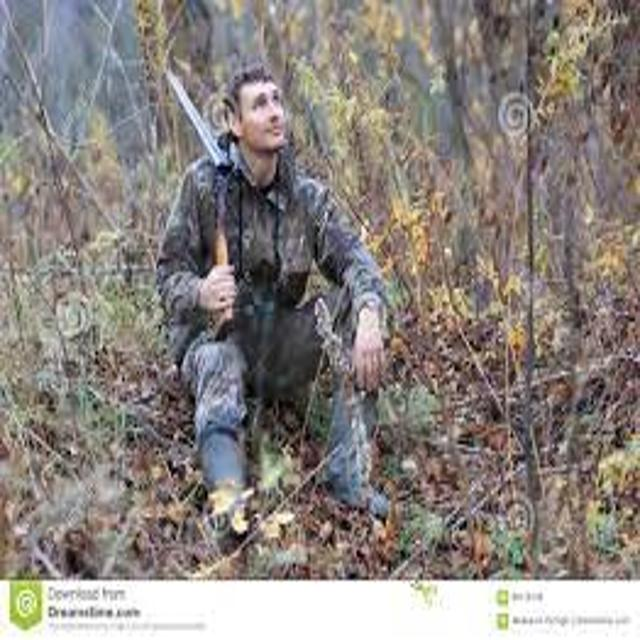gun: (145, 53, 254, 354)
poacher: (122, 44, 461, 566)
